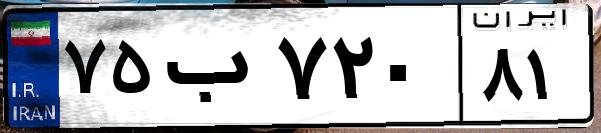0: (385, 28, 445, 110)
1: (525, 38, 570, 115)
2: (330, 28, 385, 110)
5: (110, 28, 158, 98)
7: (270, 28, 330, 110), (57, 26, 110, 100)
8: (475, 38, 525, 113)
ب: (158, 20, 270, 120)
